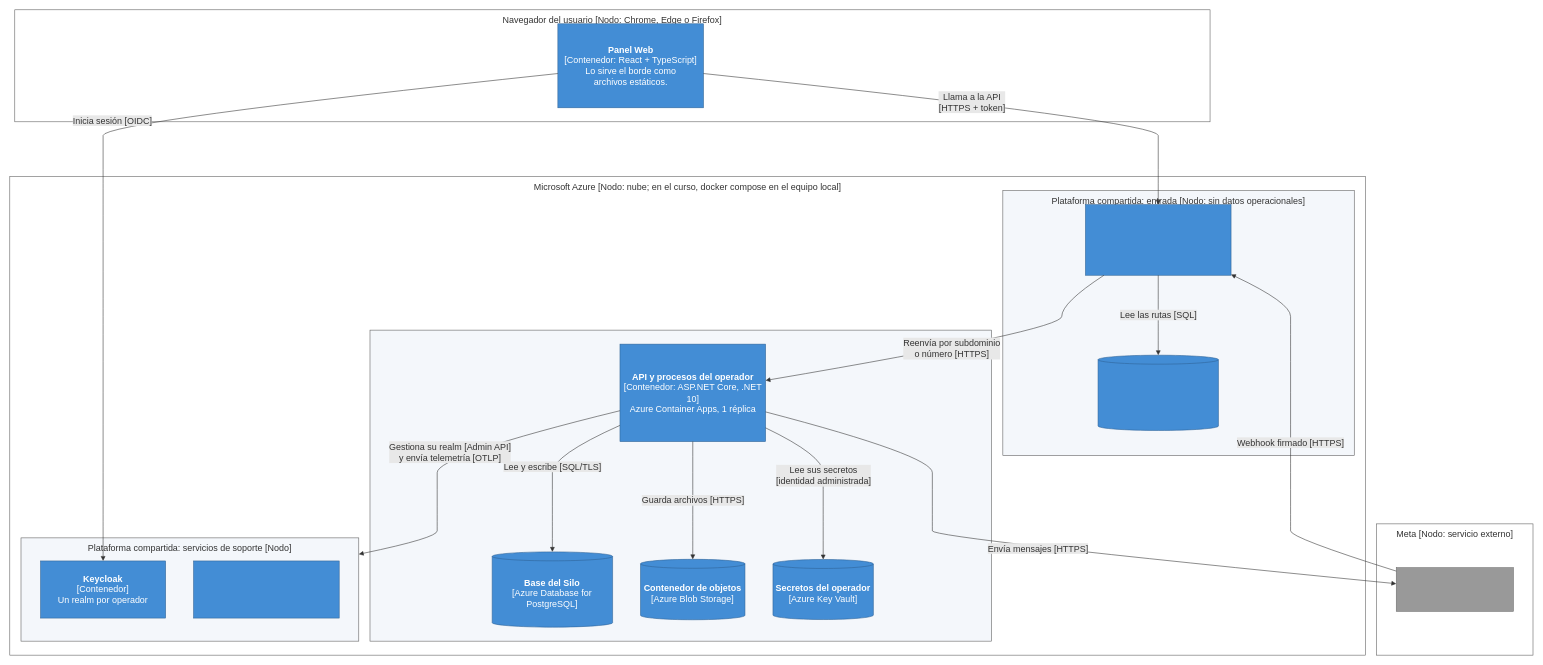
Some shapes in this 1543 by 665 pixel diagram are drawn without their labels. The box of each missing label's shape, as (x1, y1, x2, y2) in pixels:
Backend de observabilidad [OTLP; en local, Aspire Dashboard]: (193, 560, 339, 618)
Borde común [Contenedor: ASP.NET Core + YARP] 2 réplicas detrás del WAF: (1085, 204, 1231, 275)
Catálogo de plataforma [Azure Database for PostgreSQL]: (1097, 355, 1218, 430)
Stack de un operador [Nodo: uno idéntico y aislado por operador]: (369, 330, 992, 641)
WhatsApp Cloud API [Sistema externo]: (1396, 567, 1513, 611)
